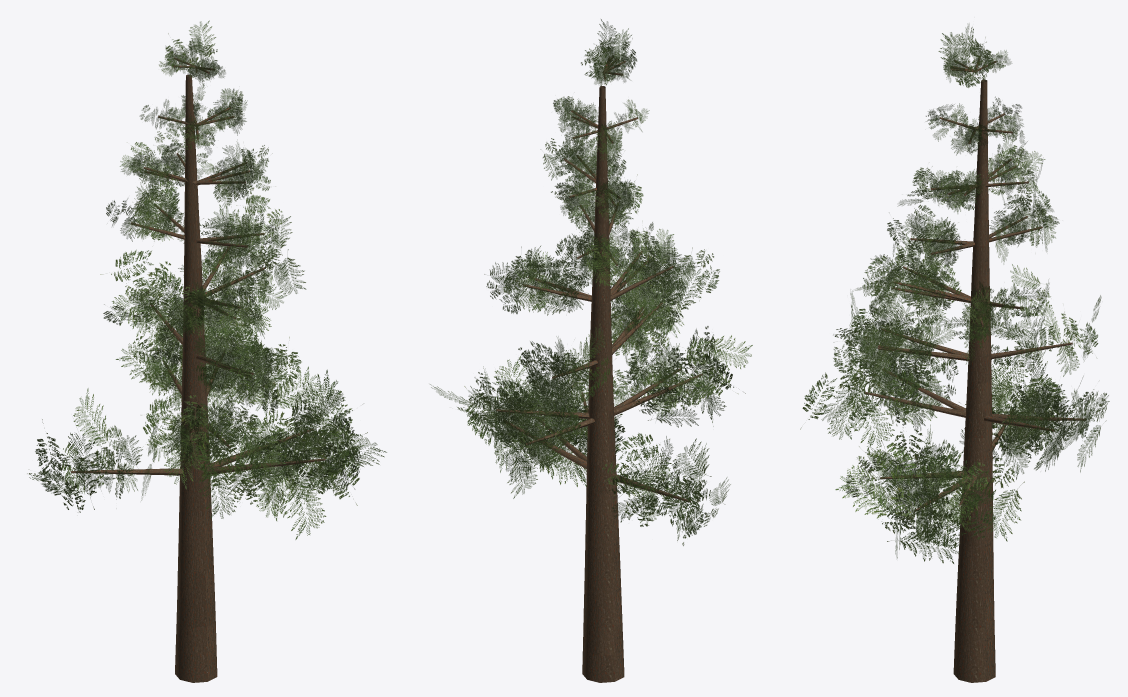
Rendered from pine_5.glb.
3 renders of one model, left to right at view 1: azimuth 30°, elevation 25°; view 2: azimuth 150°, elevation 25°; view 3: azimuth 270°, elevation 25°, orthographic.
Parts seen in each view (by area): view 1: pine; view 2: pine; view 3: pine.
Boxes of the visible parts, box(x1,y1,x2,y2) form: pine: box(27, 20, 386, 682); pine: box(430, 19, 752, 682); pine: box(800, 24, 1109, 682).
Size of the model in its own units: 7.19 by 13.99 by 6.33.
Materials: 2 (2 with a texture image).
